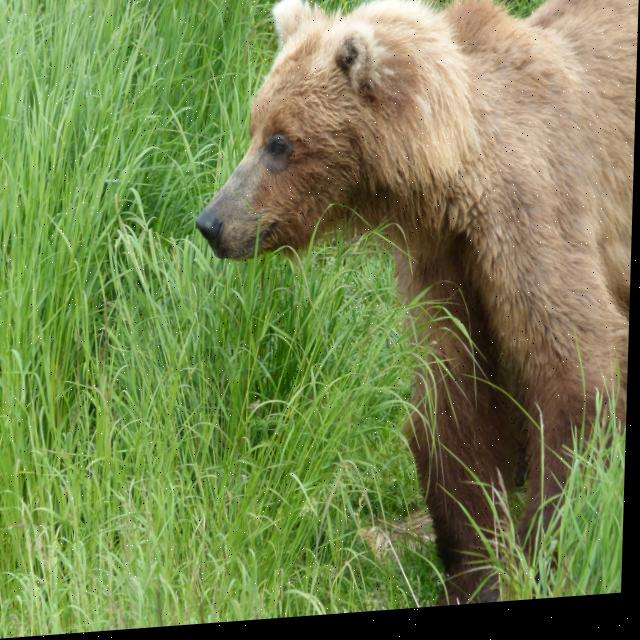bear face: (186, 0, 640, 624)
